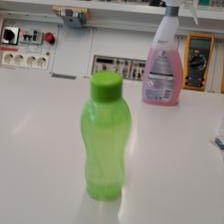bottle: (80, 71, 133, 201)
